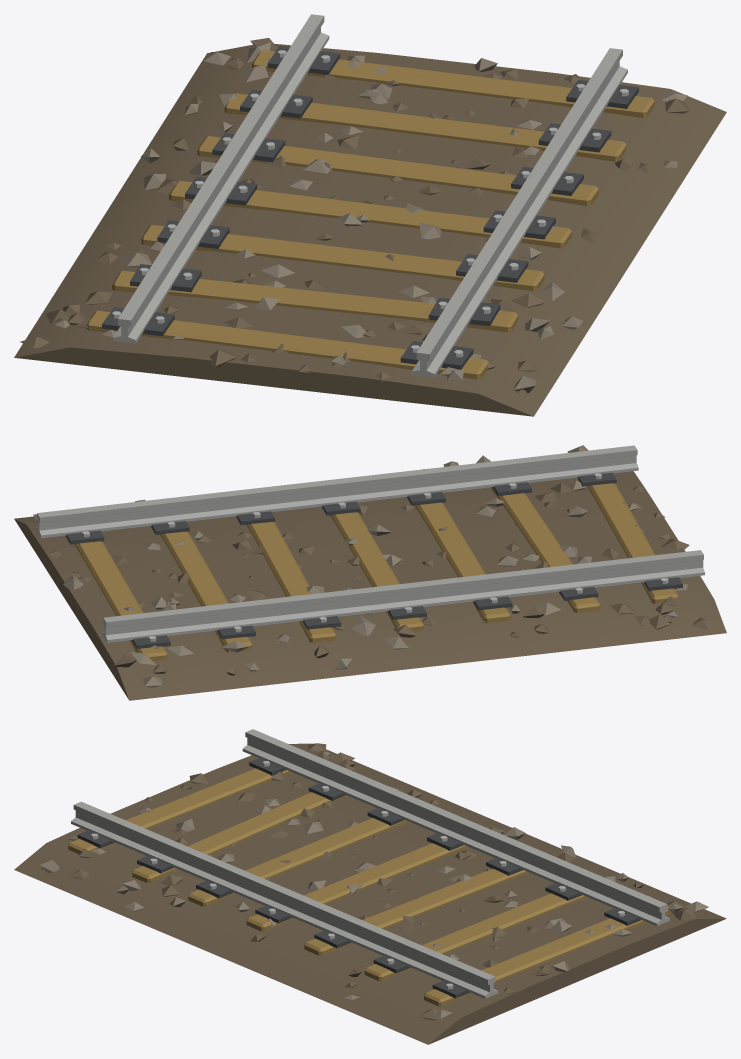
Rendered from straight-rail-ne.glb.
3 renders of one model, top to bottom at view 1: azimuth 30°, elevation 25°; view 2: azimuth 150°, elevation 25°; view 3: azimuth 270°, elevation 25°, orthographic. The views are drawn at different scales.
Visible parts, largest first — view 1: body; view 2: body; view 3: body.
Part boxes in pixels (box(x1,y1,x2,y2)): body: box(14, 14, 726, 416); body: box(14, 445, 726, 700); body: box(14, 729, 726, 1044).
Size of the model in its own units: 3.44 by 0.212 by 3.44.
